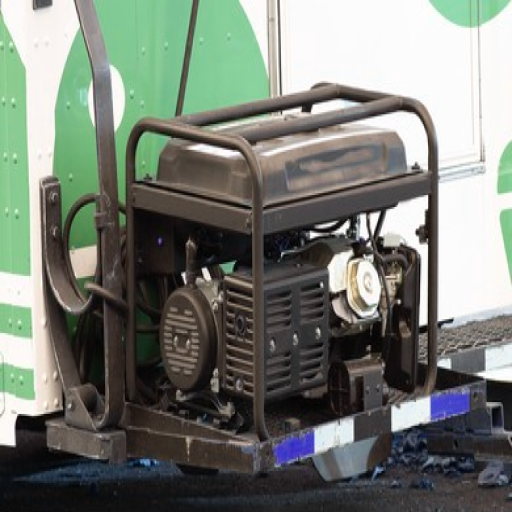portable_generator: (126, 82, 440, 434)
